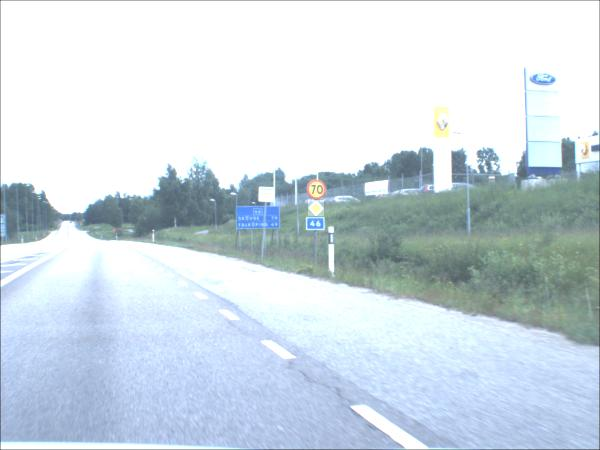70_SIGN: (308, 179, 329, 201)
PRIORITY_ROAD: (309, 201, 326, 218)
